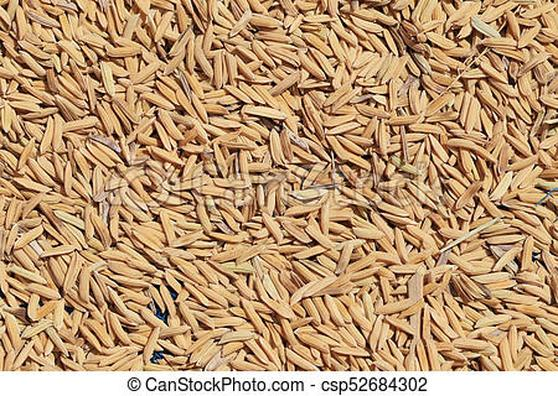rice: (29, 8, 524, 351)
